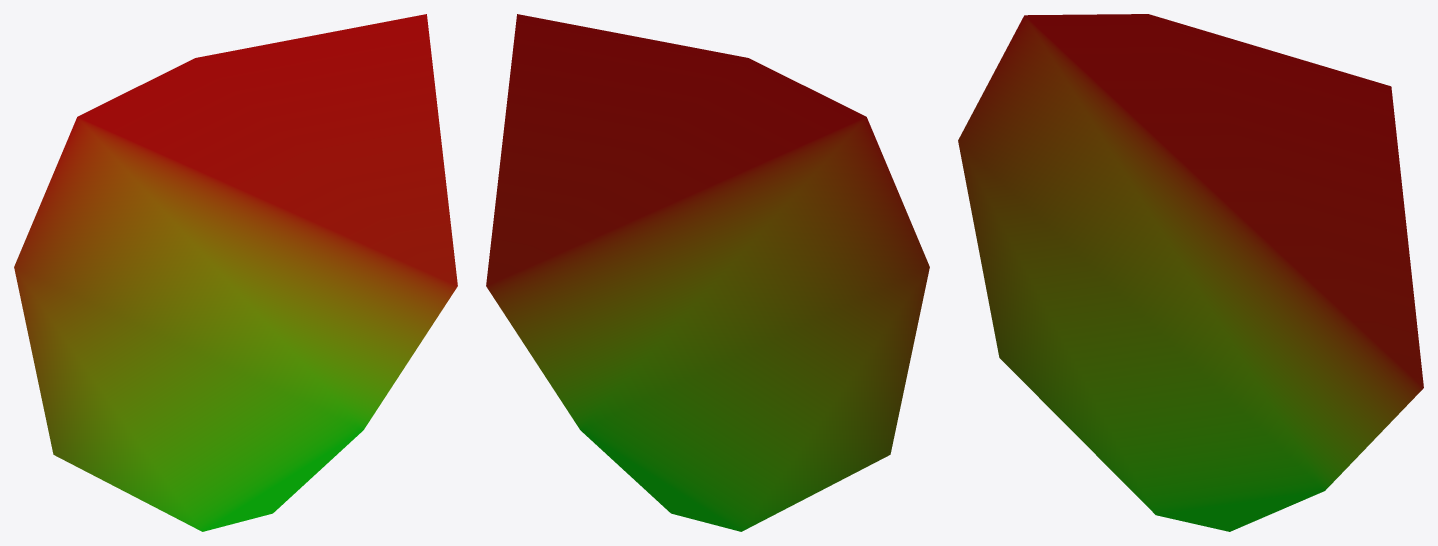
Rendered from Butterfly Weed_LOD4_Var3.fbx.
3 renders of one model, left to right at view 1: azimuth 30°, elevation 25°; view 2: azimuth 150°, elevation 25°; view 3: azimuth 330°, elevation 25°, orthographic. The views are drawn at different scales.
Visible parts, largest first — view 1: _5dxv_Var3_LOD4; view 2: _5dxv_Var3_LOD4; view 3: _5dxv_Var3_LOD4.
Boxes of the visible parts, left/top/right/bottom form: _5dxv_Var3_LOD4: left=14, top=14, right=457, bottom=531; _5dxv_Var3_LOD4: left=486, top=14, right=929, bottom=531; _5dxv_Var3_LOD4: left=958, top=14, right=1423, bottom=531.
Bounding box in the file's own units: 71.98 × 73.72 × 4.5e-06.
